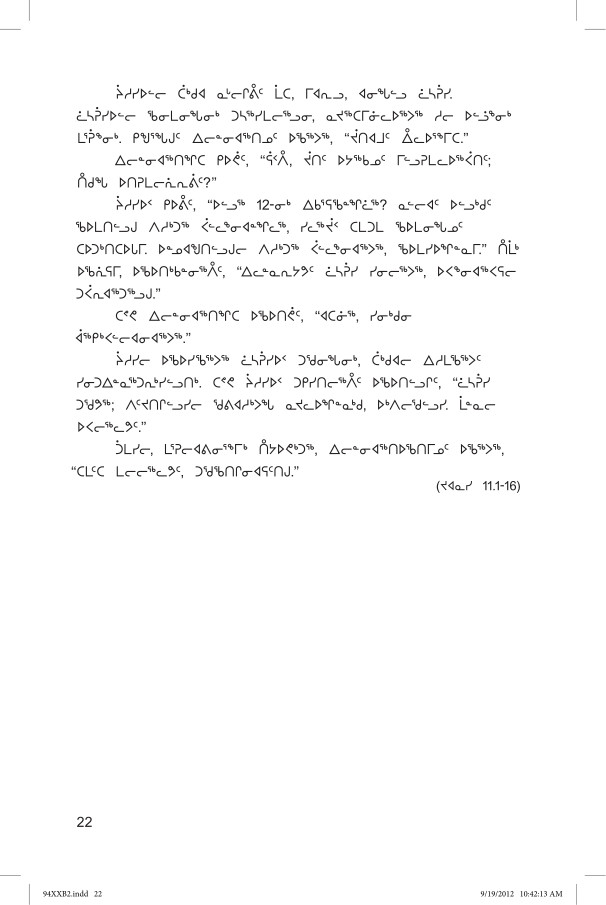inuktitut: (68, 80, 523, 478)
